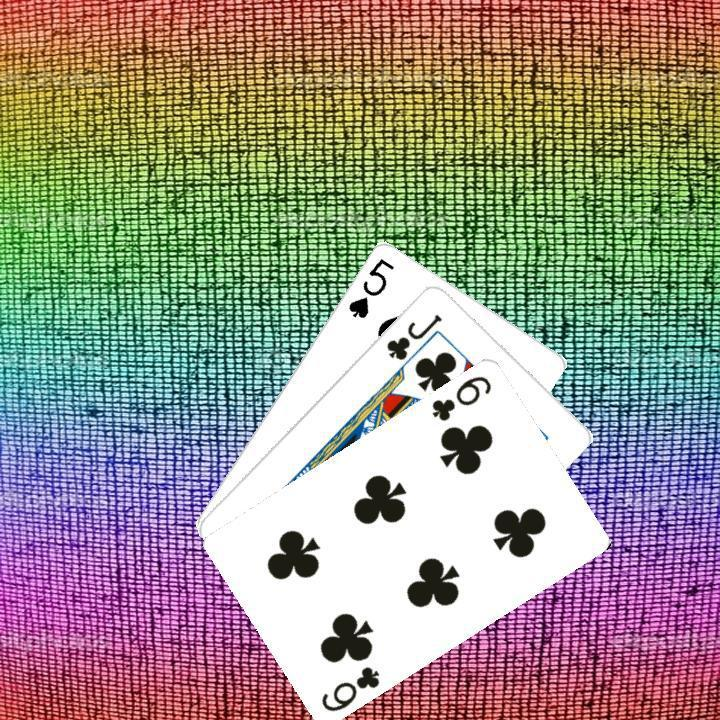5: (343, 253, 396, 320)
6: (427, 370, 494, 423), (317, 661, 382, 713)
J: (381, 309, 444, 362)
